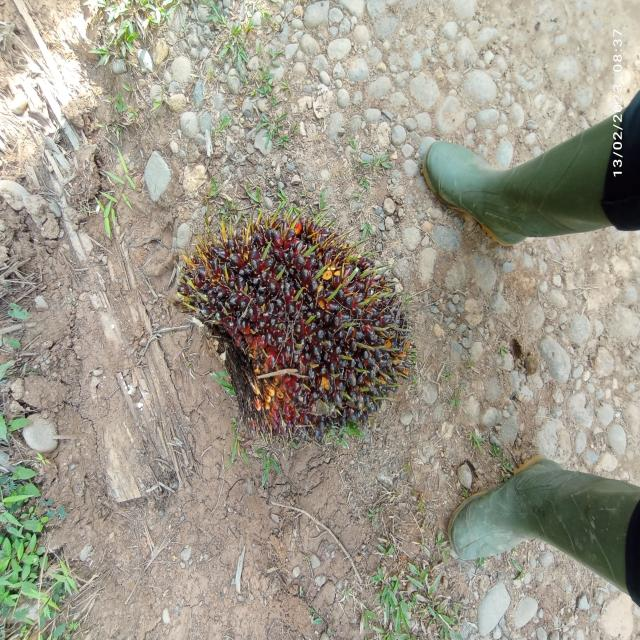fraksi 1: (170, 176, 426, 450)
